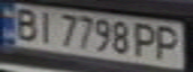7: (54, 11, 78, 47), (75, 13, 96, 51)
8: (109, 18, 133, 56)
9: (90, 16, 115, 53)
B: (9, 6, 42, 42)
I: (33, 9, 57, 44)
P: (151, 24, 187, 62), (130, 20, 160, 58)
